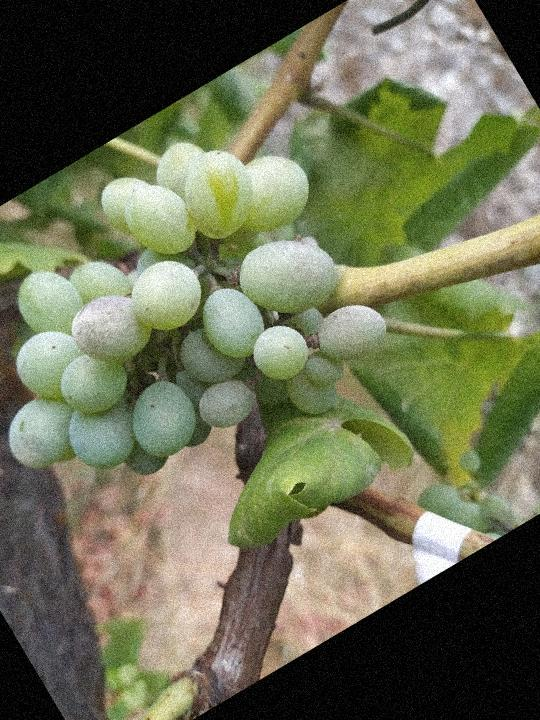grape: (0, 88, 417, 562)
